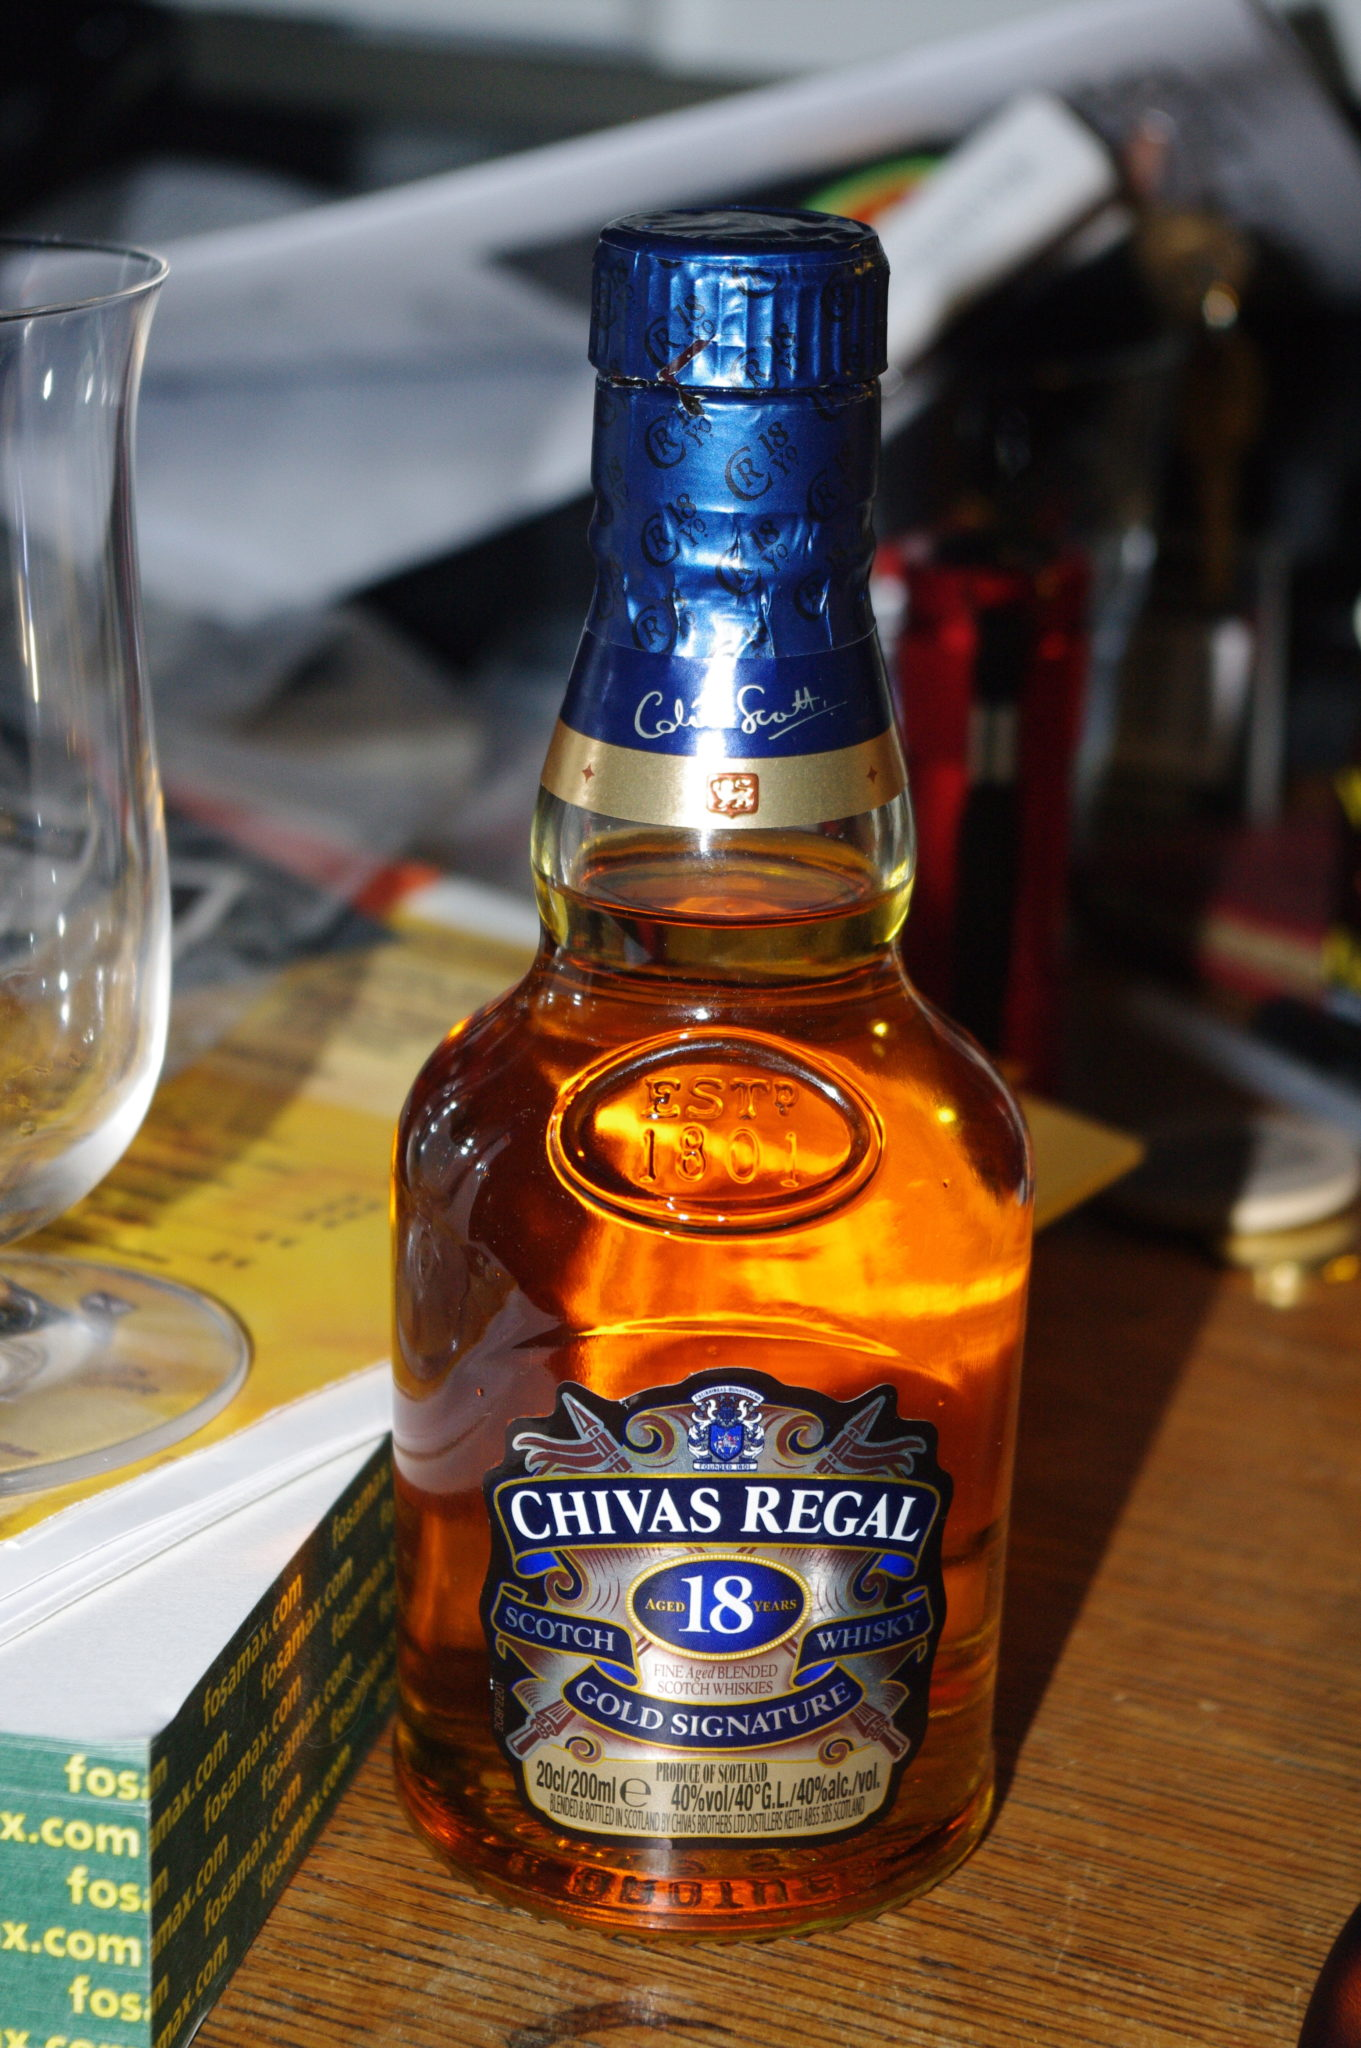Chivas Regal: (368, 193, 1054, 1957)
